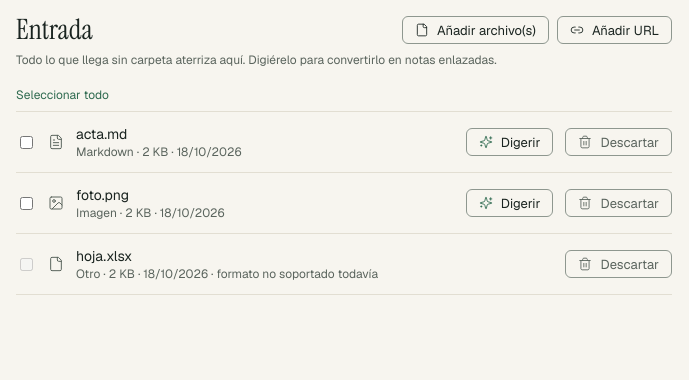
Test case: InboxView › Añadir URL › opens an input, clips the url and reports the result
Click the button with test id "add-url" at [614, 30], box [557,16,672,44]
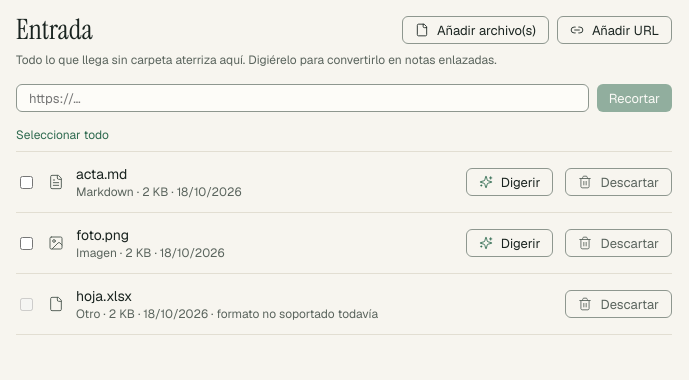
Type "https://example.com/a" into the field with test id "clip-url-input" at [302, 98], box [16,84,589,112]
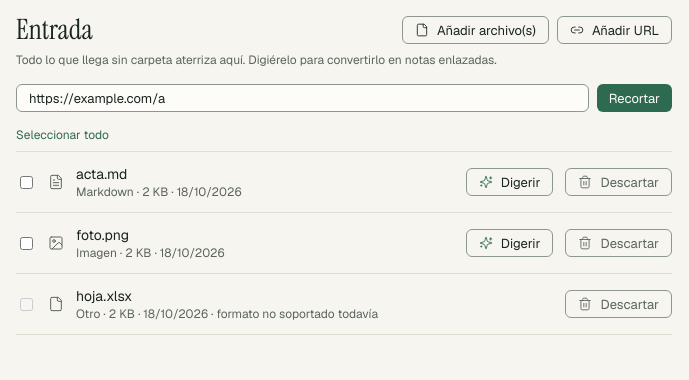
Click the button with test id "clip-url-submit" at [634, 98], box [597,84,672,112]
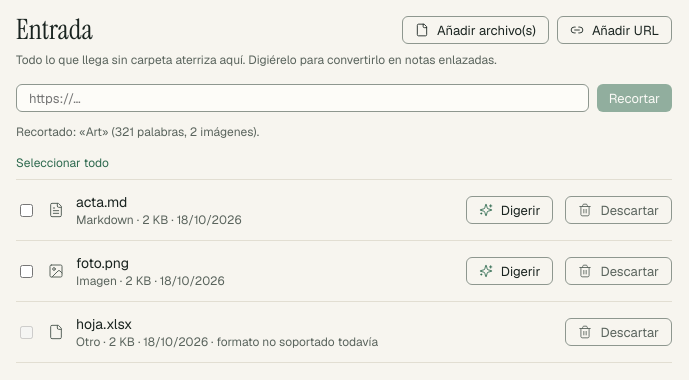
Expected: the message with test id "clip-result" shows "Art", [16,124,259,140]
Expected: the message with test id "clip-result" shows "321 palabras", [16,124,259,140]
Expected: the message with test id "clip-result" shows "2 imágenes", [16,124,259,140]
